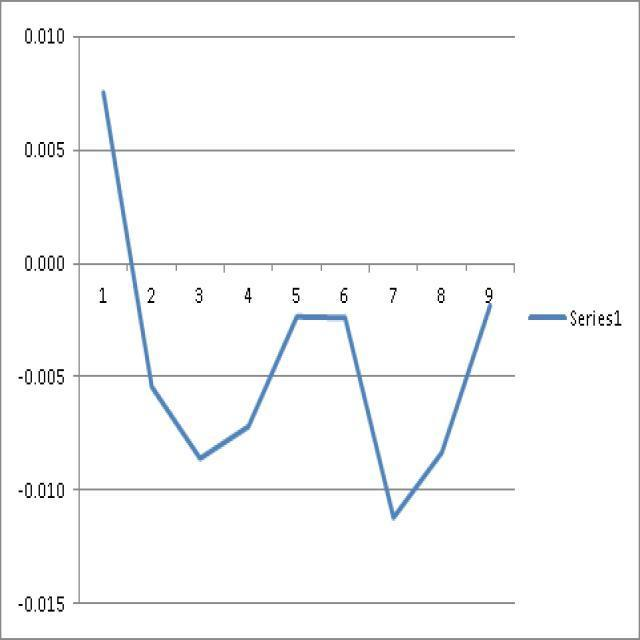axis: (65, 254, 524, 276), (69, 21, 85, 615)
line: (96, 85, 498, 525)
